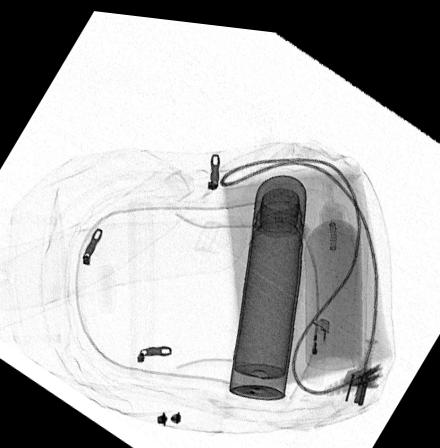Lighter: (304, 308, 331, 376)
